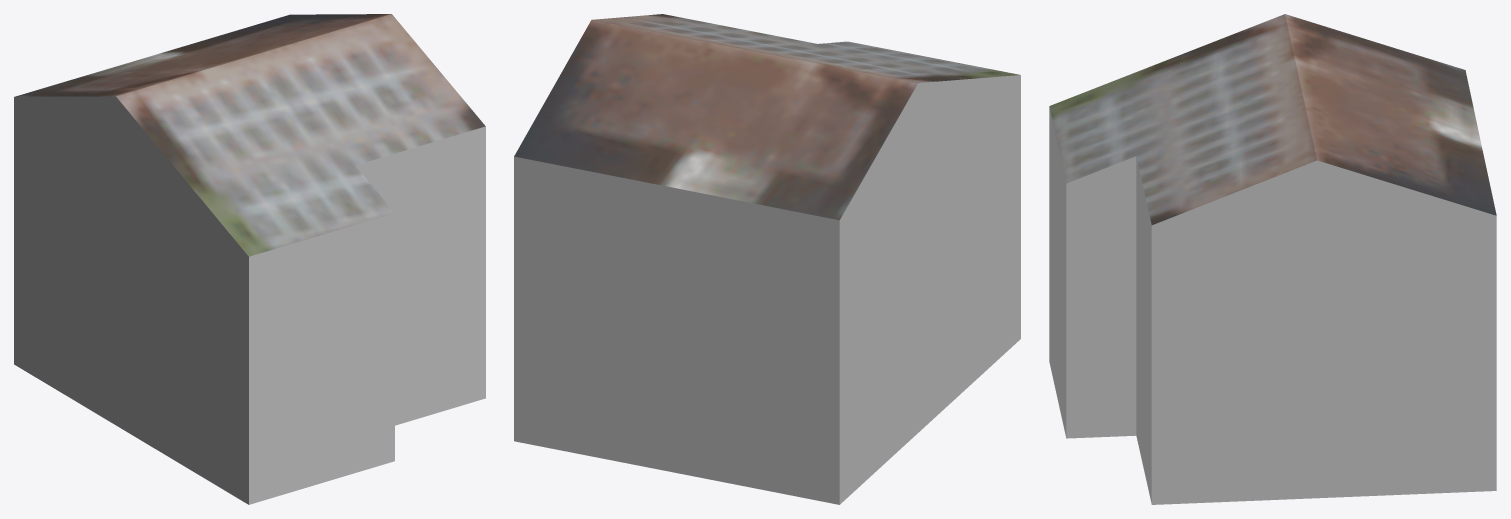
File: DEBW_0010007TxiN.gltf
The picture shows the model from 3 angles, left to right: view 1: azimuth 30°, elevation 25°; view 2: azimuth 150°, elevation 25°; view 3: azimuth 270°, elevation 25°; orthographic projection. The views are drawn at different scales.
Visible parts, largest first — view 1: Z_UP; view 2: Z_UP; view 3: Z_UP.
Part boxes in pixels (x1=…): Z_UP: x1=14, y1=14, x2=485, y2=504; Z_UP: x1=514, y1=14, x2=1020, y2=504; Z_UP: x1=1049, y1=14, x2=1496, y2=504.
Bounding box in the file's own units: 11.51 × 11.34 × 13.61.
Materials: 2 (1 with a texture image).
